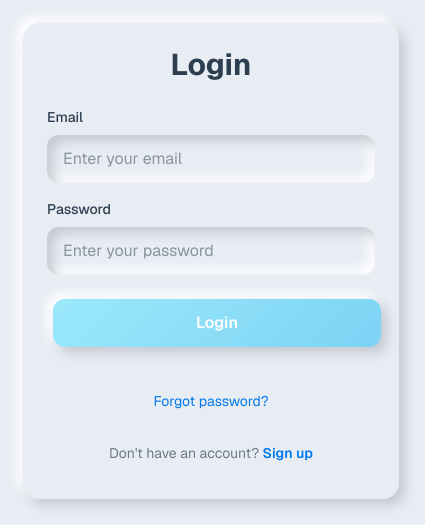
Test: Login Component › should switch to forgot password mode when forgot password link is clicked
Click the button "Forgot password?": (211, 401) [154,379,269,423]
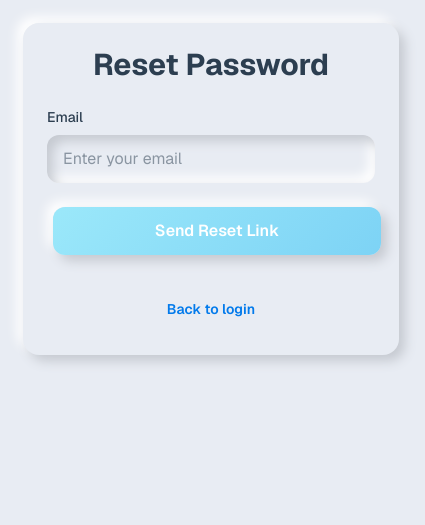
Expected: the heading "Reset Password" is shown, [93,45,329,84]
Expected: the button "Send Reset Link" is shown, [53,207,381,255]
